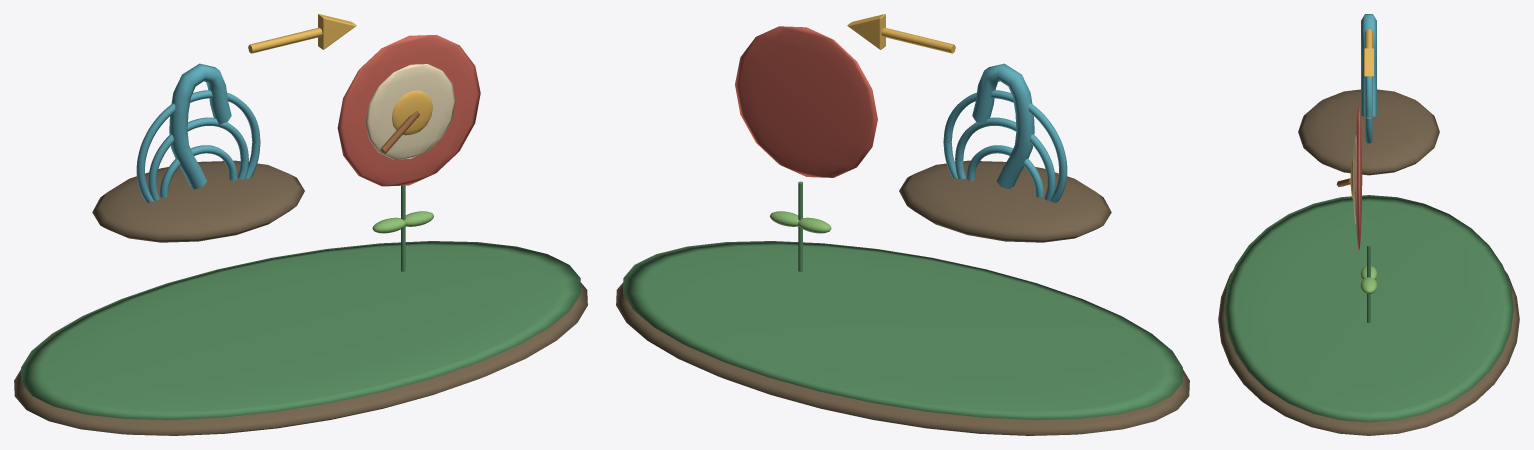
The model's file is complete-second-source-because.glb.
The picture shows the model from 3 angles, left to right: view 1: azimuth 30°, elevation 25°; view 2: azimuth 150°, elevation 25°; view 3: azimuth 270°, elevation 25°; orthographic projection. The views are drawn at different scales.
Visible parts, largest first — view 1: complete-second-source-because_surface_01, complete-second-source-because_surface_00, complete-second-source-because_surface_03, complete-second-source-because_surface_02, complete-second-source-because_surface_04, complete-second-source-because_surface_05, complete-second-source-because_surface_07; view 2: complete-second-source-because_surface_01, complete-second-source-because_surface_00, complete-second-source-because_surface_03, complete-second-source-because_surface_02, complete-second-source-because_surface_05, complete-second-source-because_surface_07; view 3: complete-second-source-because_surface_01, complete-second-source-because_surface_00, complete-second-source-because_surface_02, complete-second-source-because_surface_03, complete-second-source-because_surface_05, complete-second-source-because_surface_07, complete-second-source-because_surface_04.
Part boxes in pixels (box(x1,y1,x2,y2)): complete-second-source-because_surface_01: box(21, 185, 580, 419); complete-second-source-because_surface_00: box(14, 160, 587, 435); complete-second-source-because_surface_03: box(337, 34, 480, 186); complete-second-source-because_surface_02: box(136, 63, 260, 202); complete-second-source-because_surface_04: box(365, 64, 455, 159); complete-second-source-because_surface_05: box(248, 14, 432, 135); complete-second-source-because_surface_07: box(372, 211, 433, 233); complete-second-source-because_surface_01: box(623, 181, 1182, 419); complete-second-source-because_surface_00: box(616, 160, 1189, 435); complete-second-source-because_surface_03: box(735, 26, 877, 177); complete-second-source-because_surface_02: box(943, 63, 1067, 202); complete-second-source-because_surface_05: box(847, 14, 955, 53); complete-second-source-because_surface_07: box(770, 211, 831, 233); complete-second-source-because_surface_01: box(1224, 195, 1513, 422); complete-second-source-because_surface_00: box(1218, 89, 1519, 435); complete-second-source-because_surface_02: box(1361, 14, 1376, 143); complete-second-source-because_surface_03: box(1356, 108, 1362, 250); complete-second-source-because_surface_05: box(1350, 29, 1373, 199); complete-second-source-because_surface_07: box(1360, 266, 1377, 293); complete-second-source-because_surface_04: box(1353, 134, 1356, 223).
Size of the model in its own units: 4.56 by 2.69 by 2.5.
